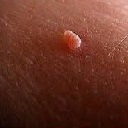Wart: (60, 25, 84, 55)
